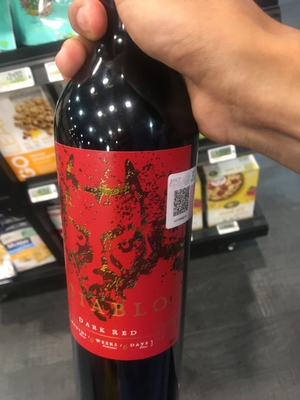diablo dark red: (49, 37, 209, 392)
